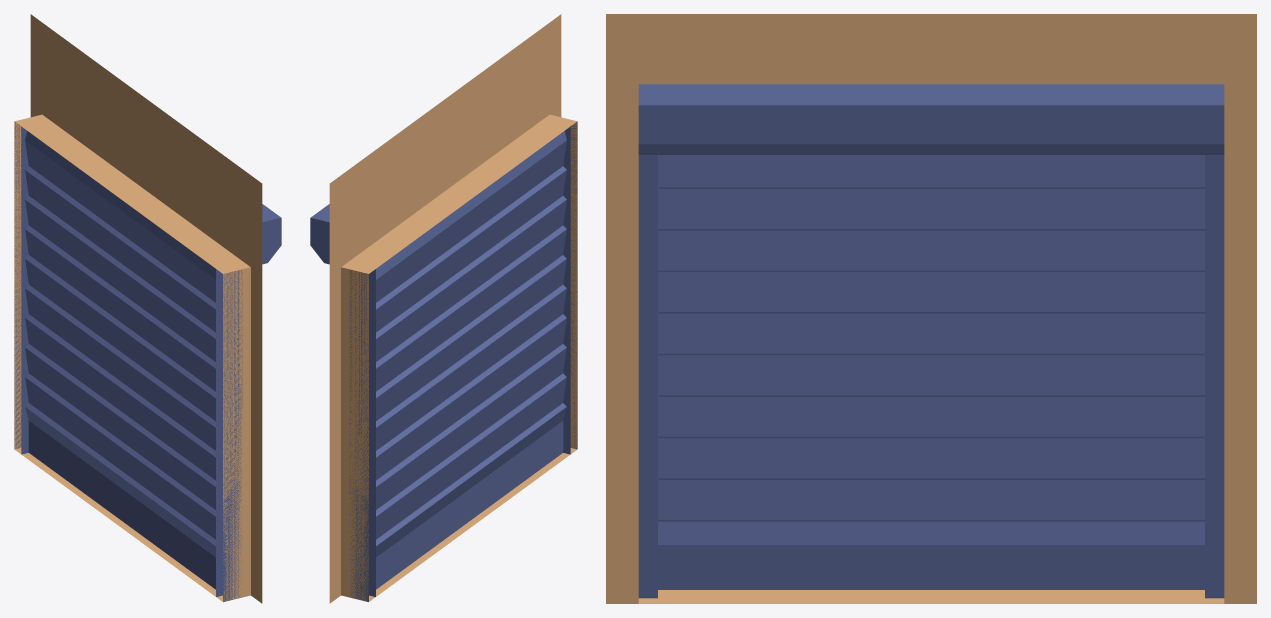
Rendered from sm_portadeSubir_02.fbx.
The picture shows the model from 3 angles, left to right: view 1: azimuth 30°, elevation 25°; view 2: azimuth 150°, elevation 25°; view 3: azimuth 270°, elevation 25°; orthographic projection. The views are drawn at different scales.
Visible parts, largest first — view 1: sm_portadeSubir_02; view 2: sm_portadeSubir_02; view 3: sm_portadeSubir_02.
Part boxes in pixels (x1=…): sm_portadeSubir_02: x1=14, y1=14, x2=281, y2=603; sm_portadeSubir_02: x1=310, y1=14, x2=577, y2=603; sm_portadeSubir_02: x1=606, y1=14, x2=1256, y2=603.
Size of the model in its own units: 0.5819 by 4 by 4.
